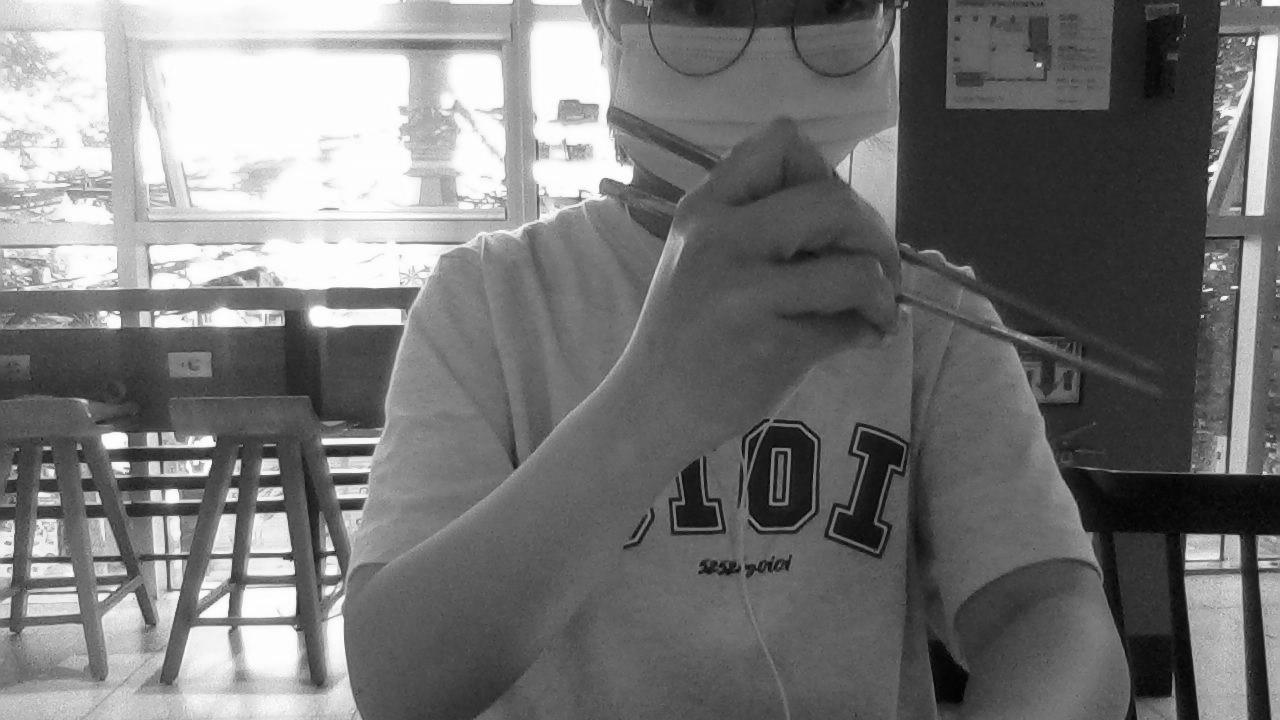chopstick: (605, 107, 1167, 378), (598, 178, 1163, 404)
hand: (629, 115, 907, 442)
